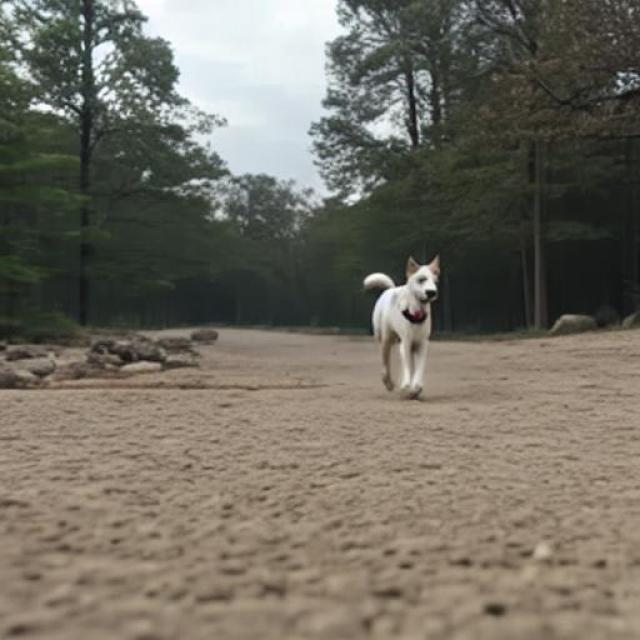Dog: (362, 255, 442, 396)
